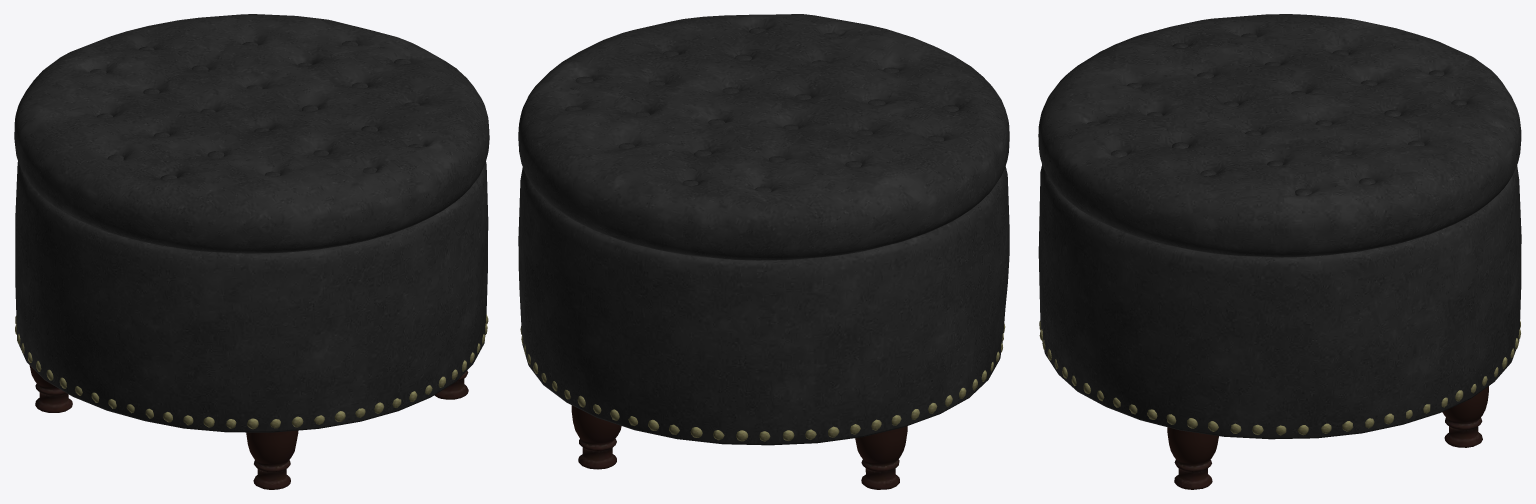
Rendered from B07M7MMPXB.glb.
The picture shows the model from 3 angles, left to right: view 1: azimuth 30°, elevation 25°; view 2: azimuth 150°, elevation 25°; view 3: azimuth 270°, elevation 25°; orthographic projection. The views are drawn at different scales.
Parts seen in each view (by area): view 1: RootNode; view 2: RootNode; view 3: RootNode.
Boxes of the visible parts, box(x1,y1,x2,y2) form: RootNode: box(14, 14, 489, 489); RootNode: box(518, 14, 1009, 489); RootNode: box(1038, 14, 1521, 489).
Size of the model in its own units: 0.6364 by 0.4424 by 0.6363.
Materials: 1 (1 with a texture image).
